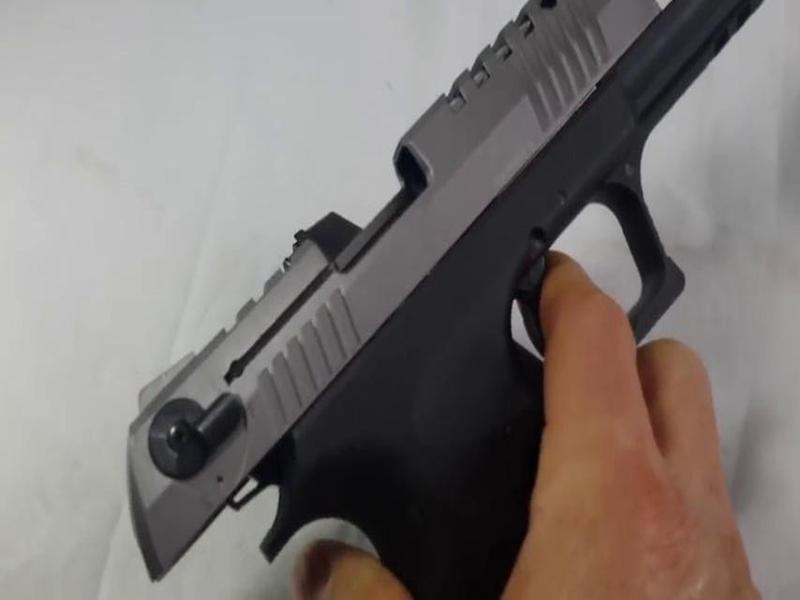Pistola: (121, 1, 753, 597)
